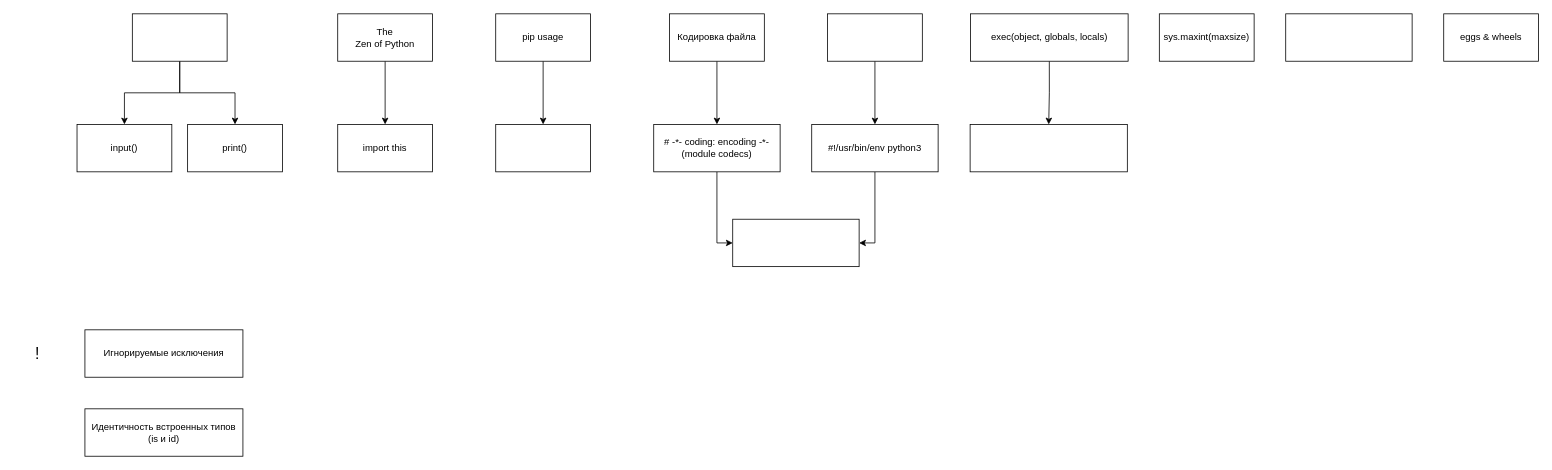
The diagram is 1552 pixels wide and 470 high, and some of its shapes have lost their labels. The box of each missing label's shape, as (x1, y1, x2, y2) in pixels:
#!/usr/bin/env python3 # -*- coding: encoding -*-: (732, 218, 859, 267)
>_ pip: (495, 124, 591, 172)
docker run - it python:3.x x means latest: (1285, 13, 1412, 61)
exec object in globals, locals: (969, 124, 1127, 172)
I/O from terminal: (132, 13, 227, 61)
shebang: (827, 13, 922, 61)
